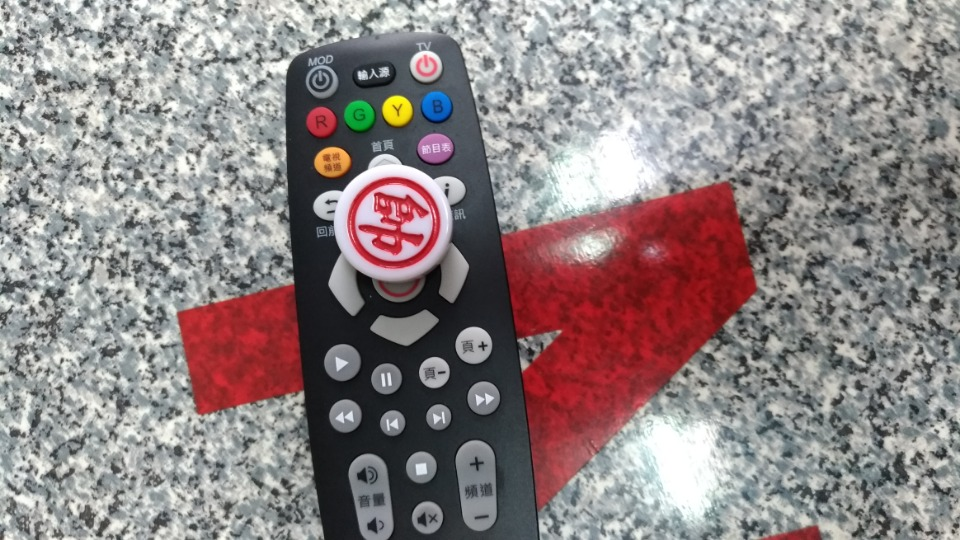r-king: (320, 162, 452, 288)
